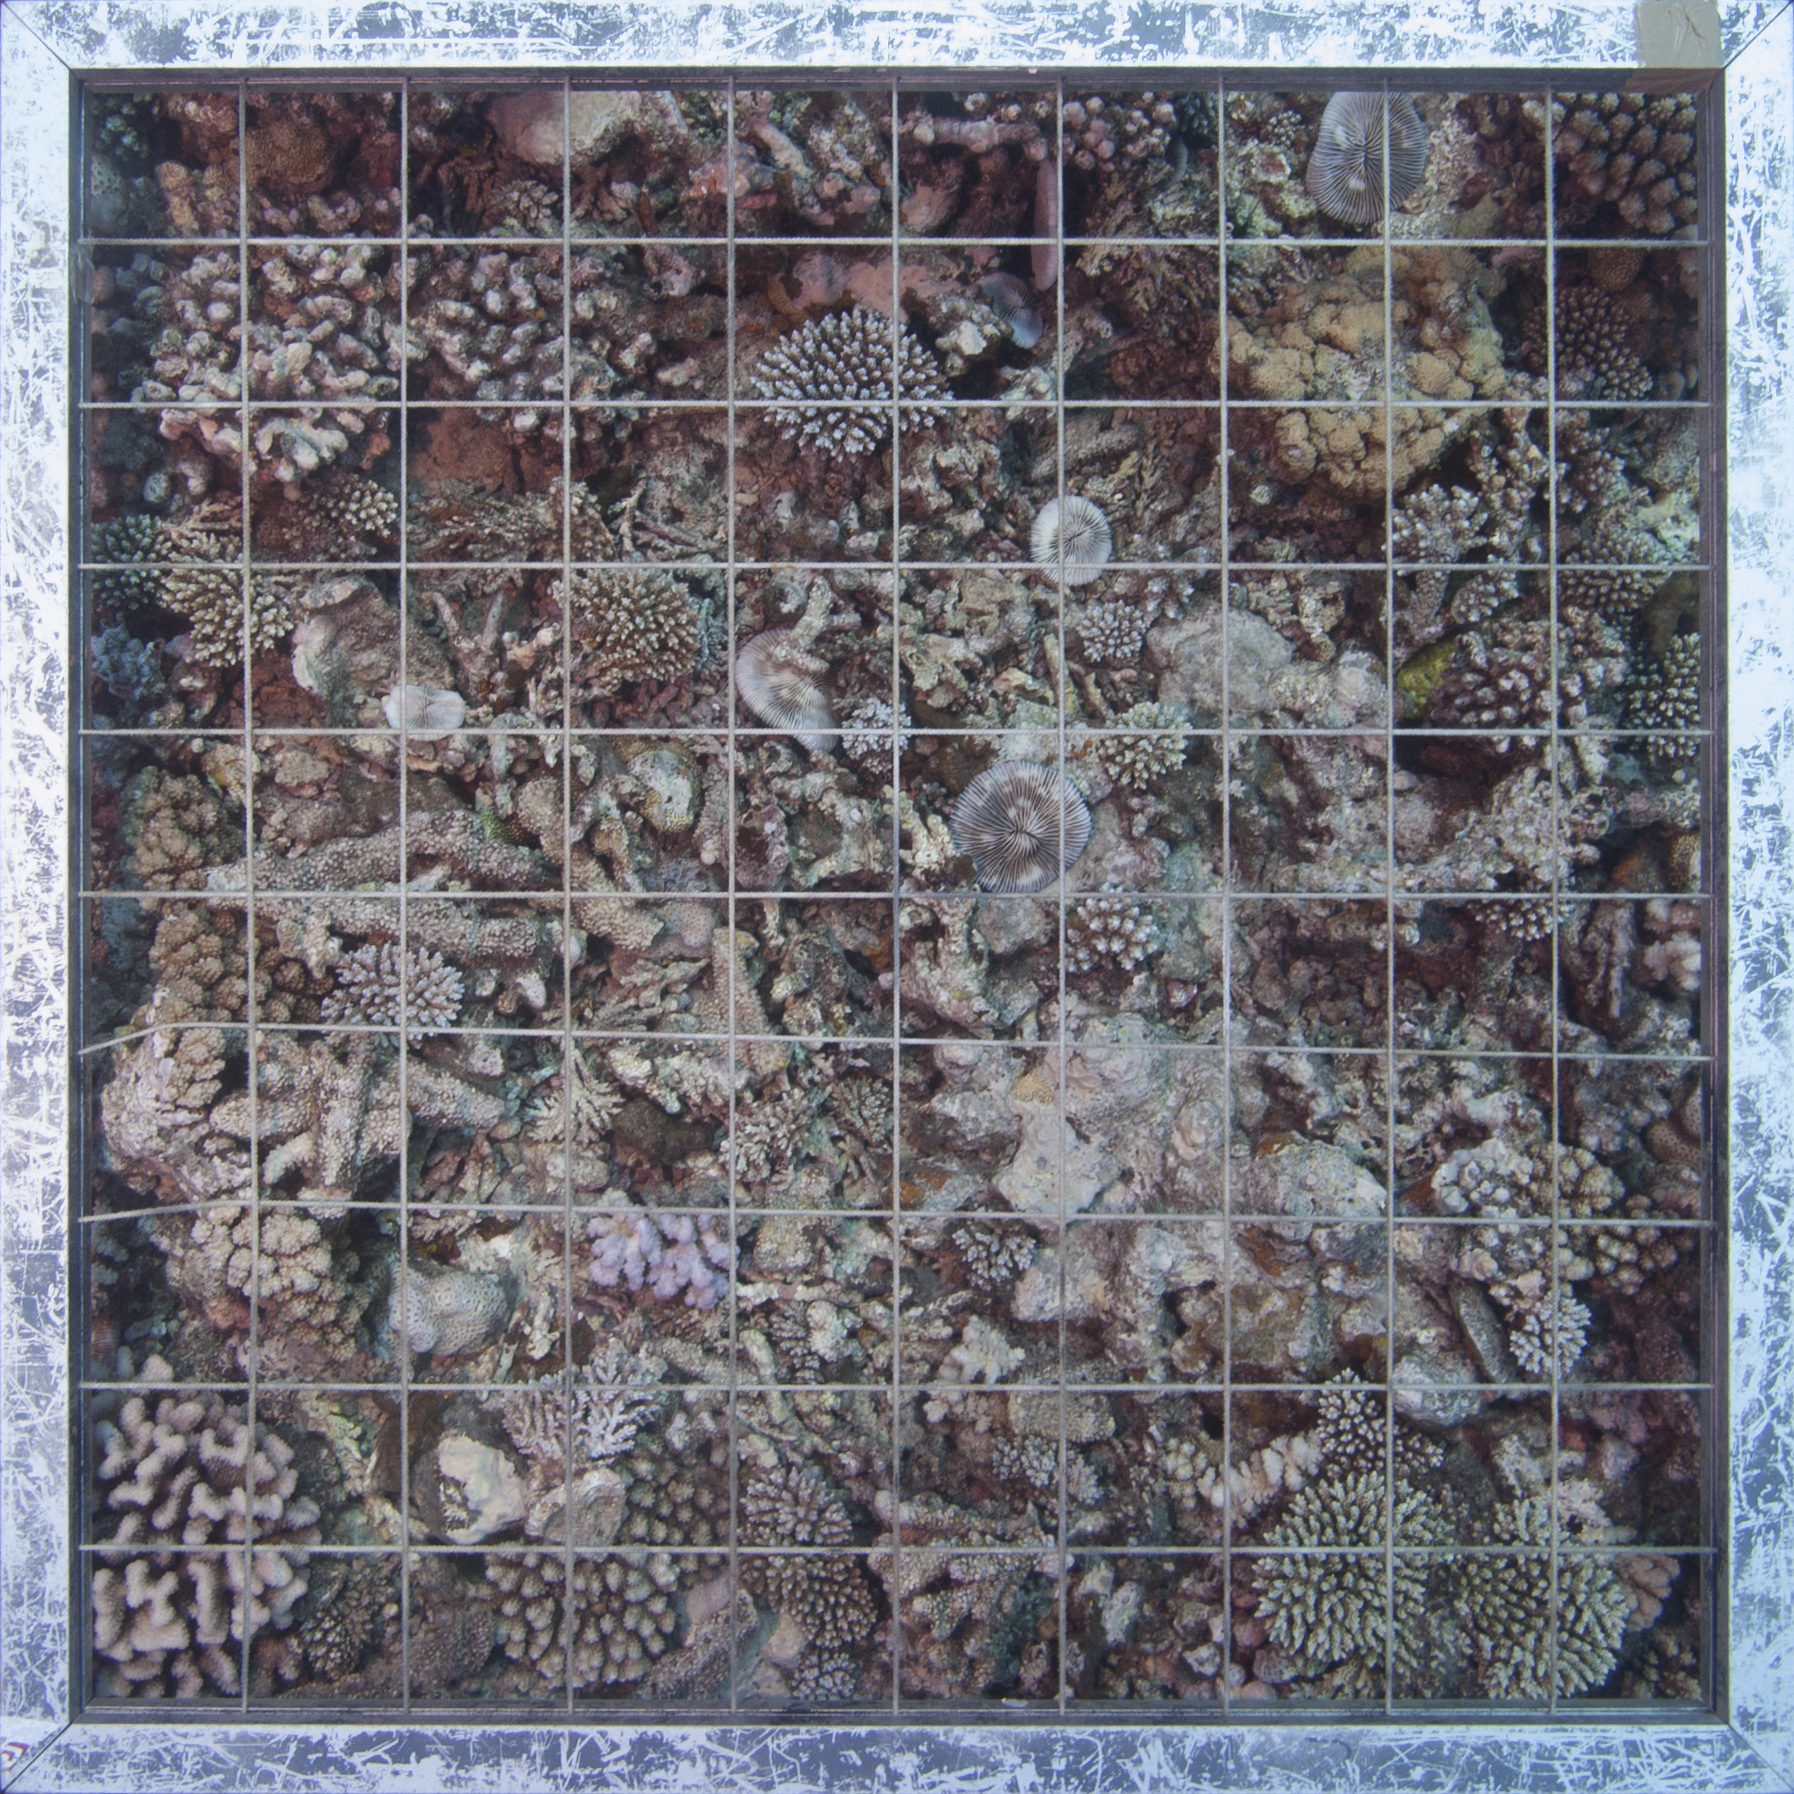alive: (1250, 1465, 1439, 1664)
